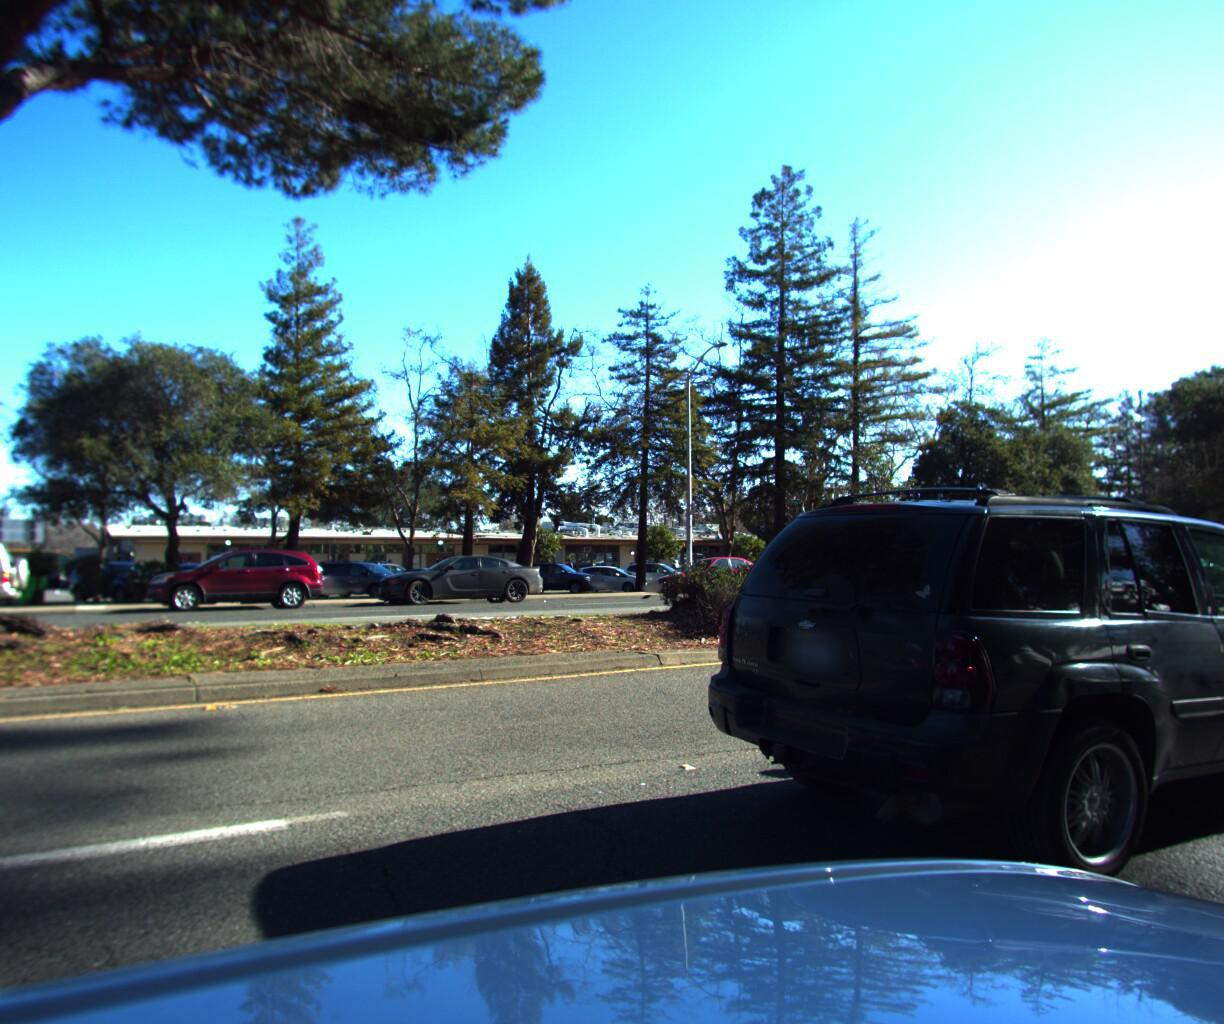car: (659, 440, 1224, 941), (140, 547, 335, 618), (367, 553, 553, 612), (642, 552, 777, 600), (0, 538, 42, 635)
